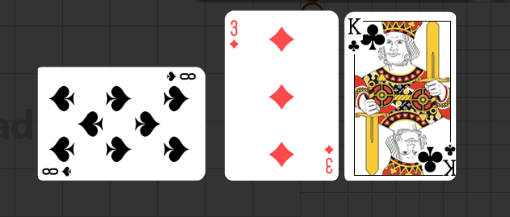8S: (163, 69, 197, 82), (40, 164, 73, 176)
